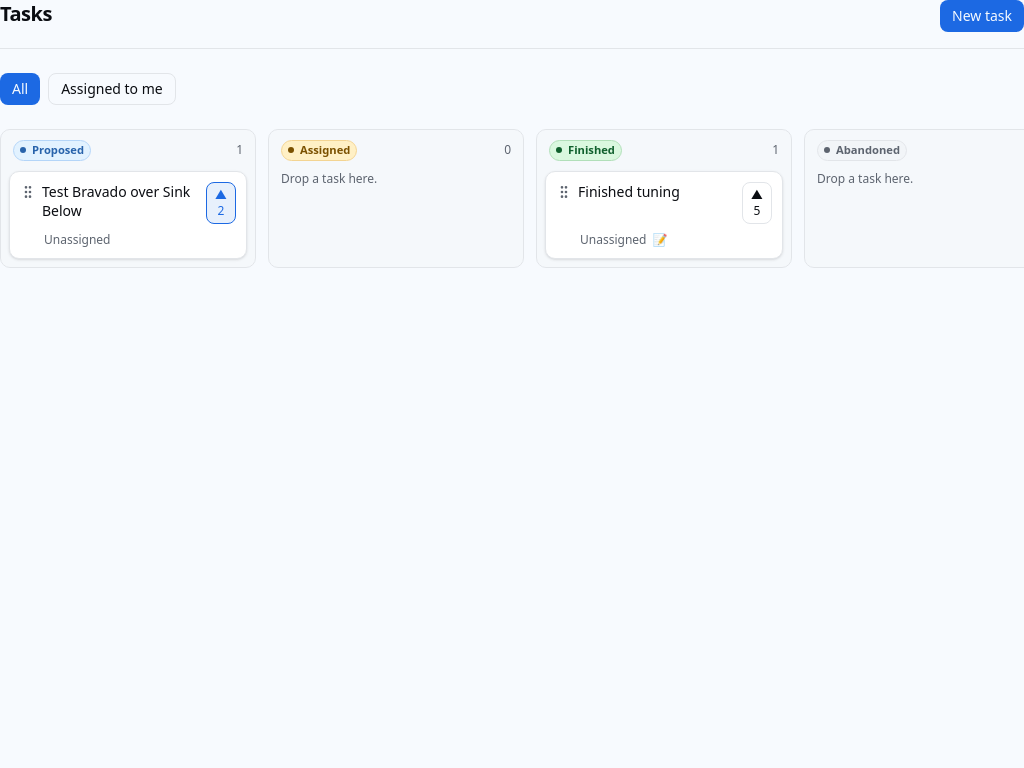
Test: TasksPage › reveals a finished task's report from its detail dialog
Click the button with aria-label "Open task: Finished tuning": (657, 191) [578, 182, 736, 201]
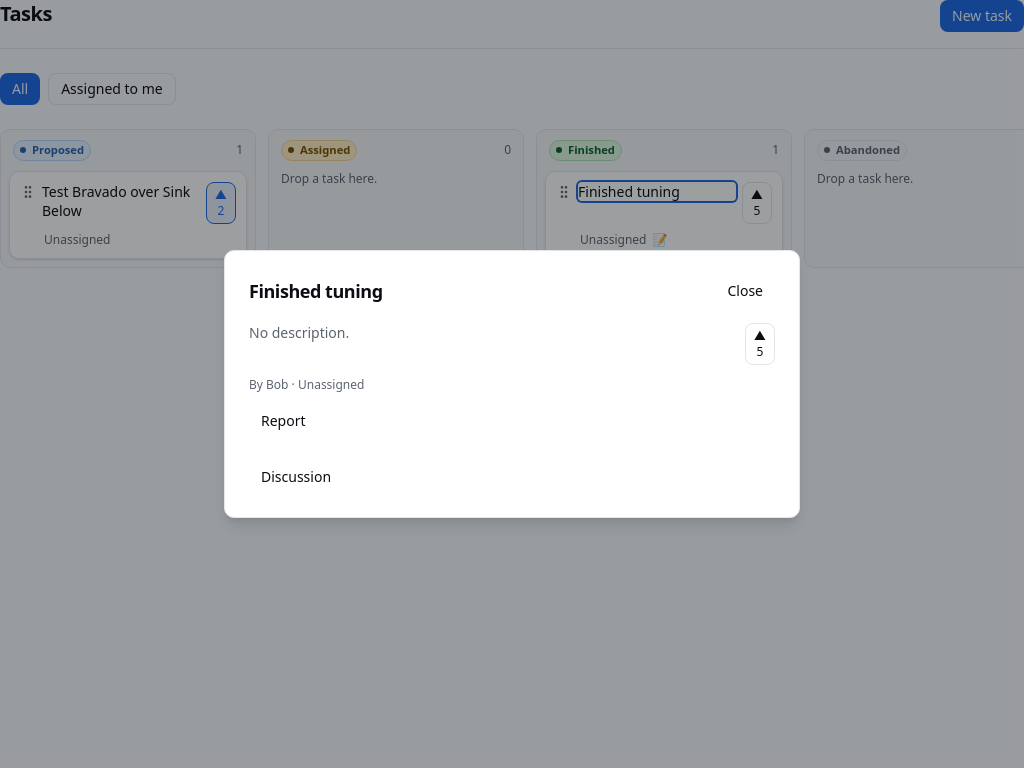
Expected: the text "Went 8-2; adopting." is not shown
Click the button "Report": (283, 421) [249, 405, 318, 437]
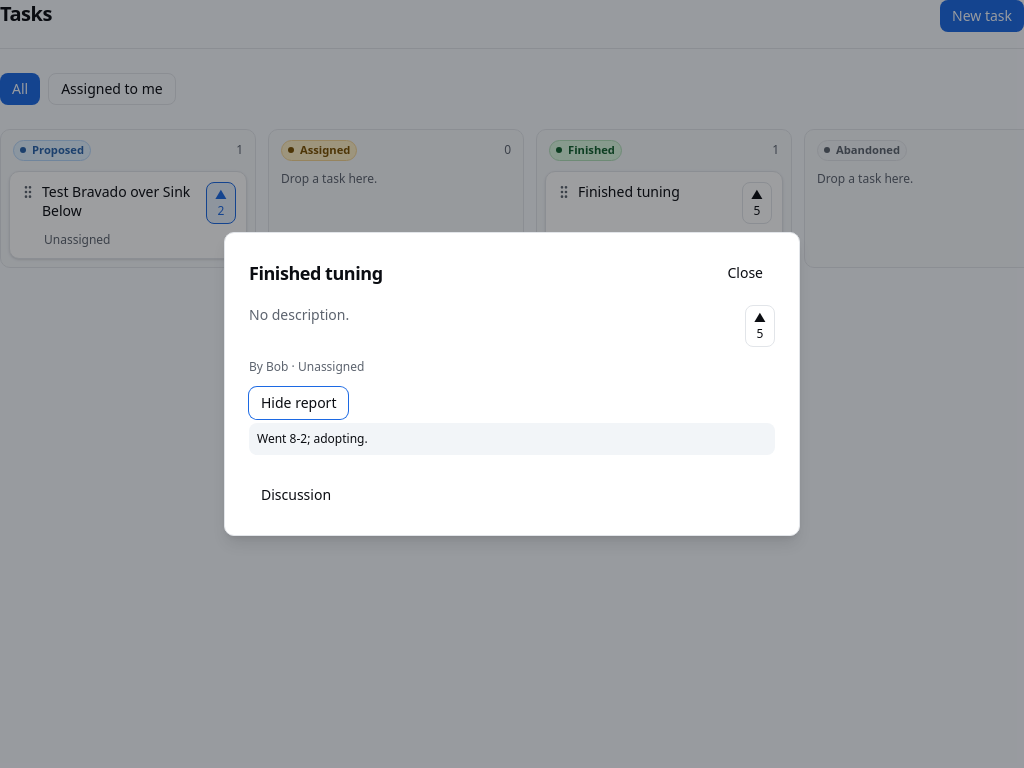
Result: the text "Went 8-2; adopting." is shown at [249, 423, 775, 455]
